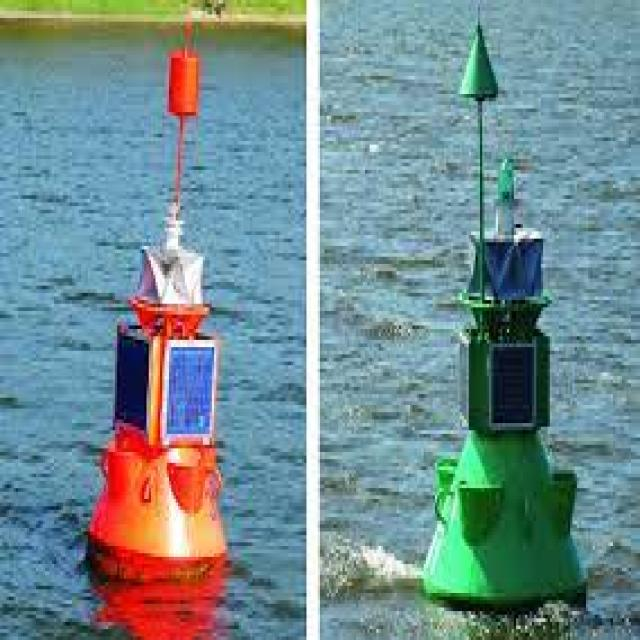marque: (410, 18, 594, 623), (83, 8, 248, 611)
